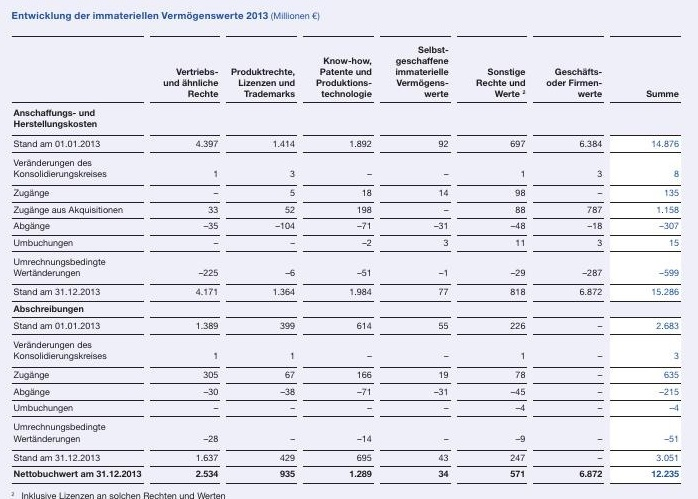table: (0, 0, 698, 499)
